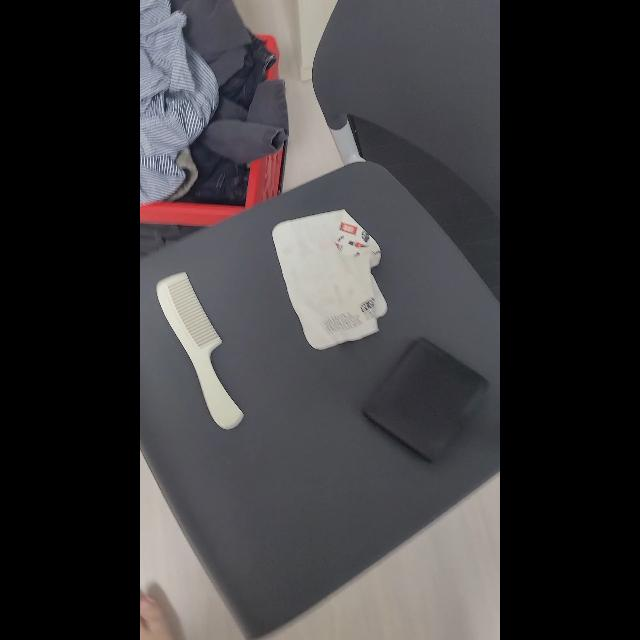COMB: (156, 272, 244, 430)
Glasses cleaning cloth: (272, 209, 388, 351)
WALLET: (362, 336, 490, 464)
